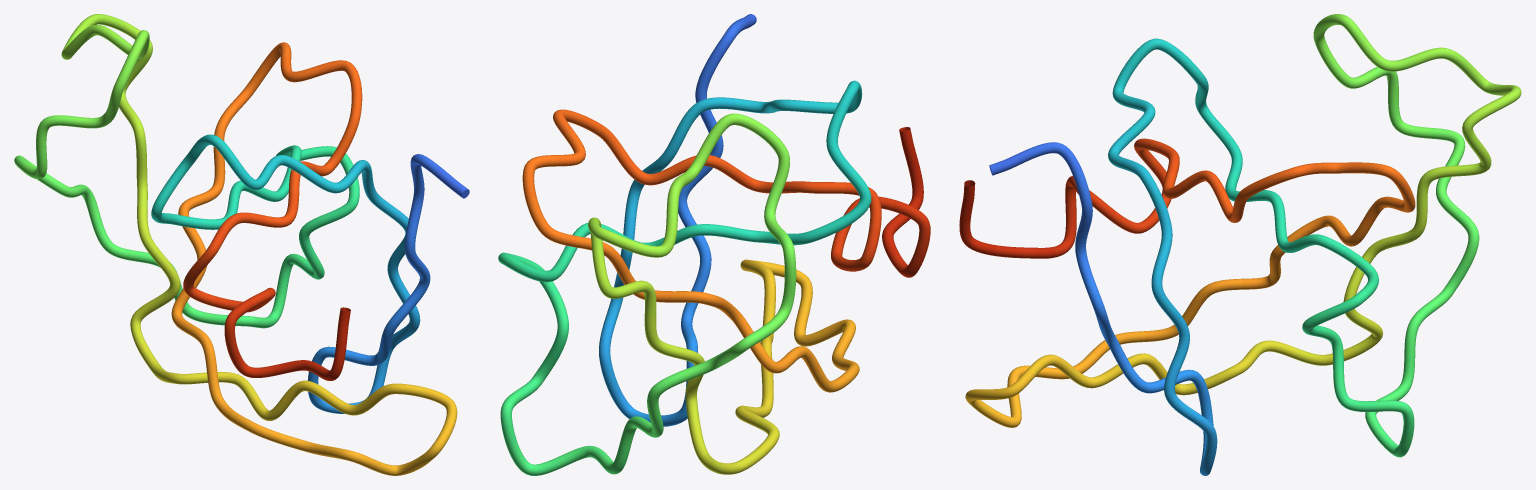
Rendered from putty_flipped_normals.obj.
3 renders of one model, left to right at view 1: azimuth 30°, elevation 25°; view 2: azimuth 150°, elevation 25°; view 3: azimuth 270°, elevation 25°, orthographic. The views are drawn at different scales.
Parts seen in each view (by area): view 1: tube; view 2: tube; view 3: tube.
Boxes of the visible parts, x1=… form: tube: x1=14, y1=14, x2=469, y2=475; tube: x1=498, y1=14, x2=930, y2=475; tube: x1=959, y1=14, x2=1521, y2=475.
Size of the model in its own units: 21.68 by 26.23 by 35.01.
